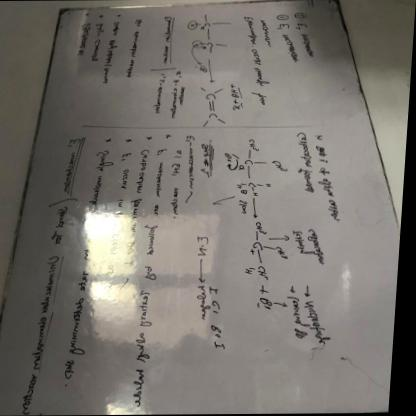Handwritten text: (59, 143, 119, 386), (127, 157, 172, 413), (21, 199, 74, 416), (226, 8, 278, 115), (124, 145, 154, 261), (106, 165, 133, 281), (291, 127, 322, 200)
